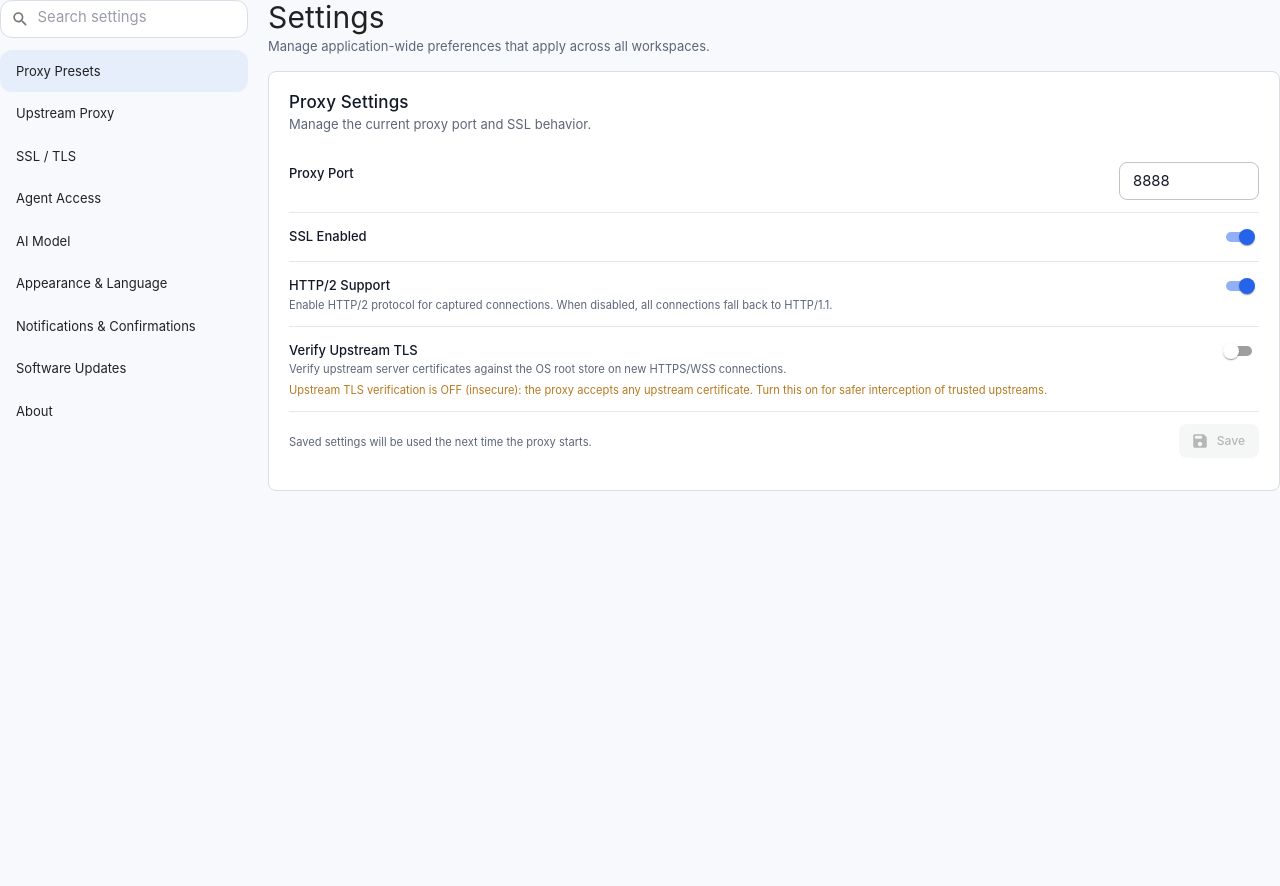
Scenario: SettingsPage navigation › finds and jumps to an Agent control permission from settings search
Type "system proxy" into the field labelled "Search settings" at x=137, y=19, box [38, 5, 237, 33]
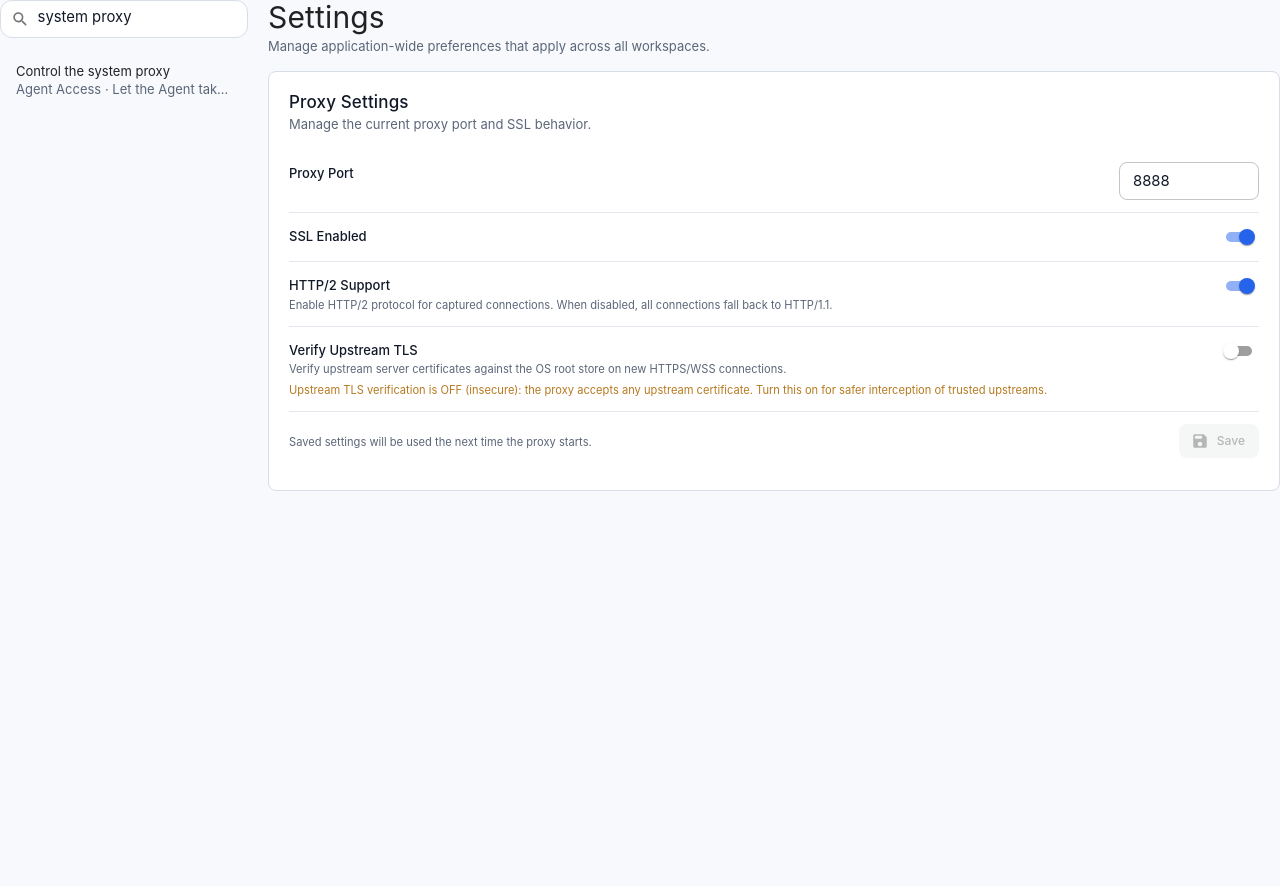
Click the text "Control the system proxy" at x=93, y=71, box [16, 63, 170, 79]
(page scrolled)
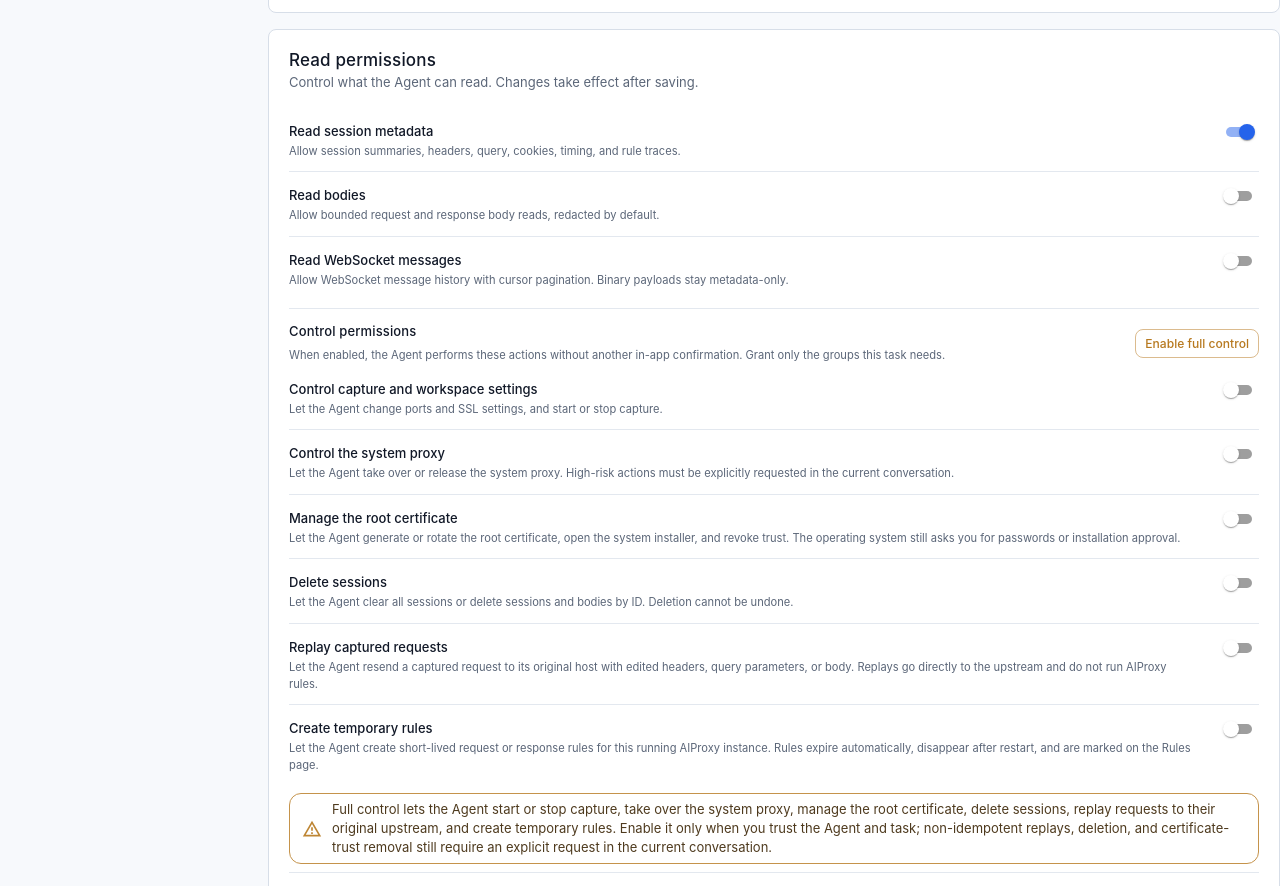
Expected: the switch named "Control the system proxy" is shown, [1223, 446, 1239, 462]
Result: the element with id "settings-item-agent-control-system-proxy" is shown at [289, 445, 1252, 480]
